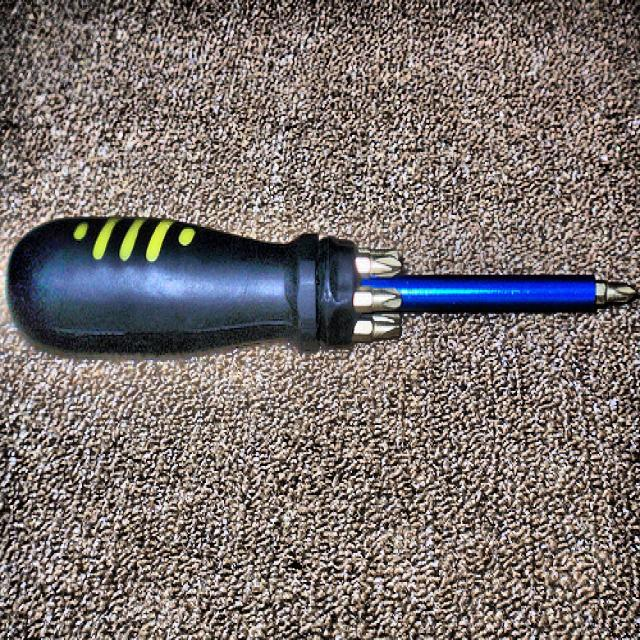screwdriver: (10, 213, 640, 355)
